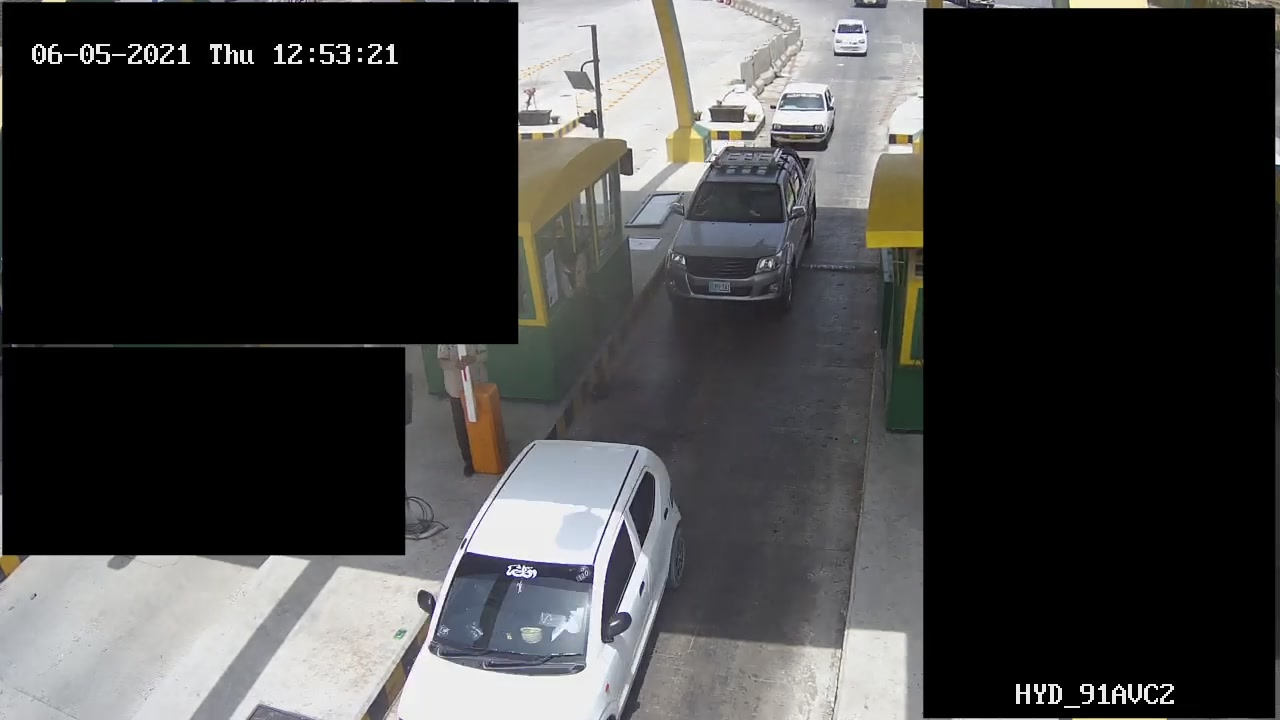F1: (663, 130, 819, 312)
